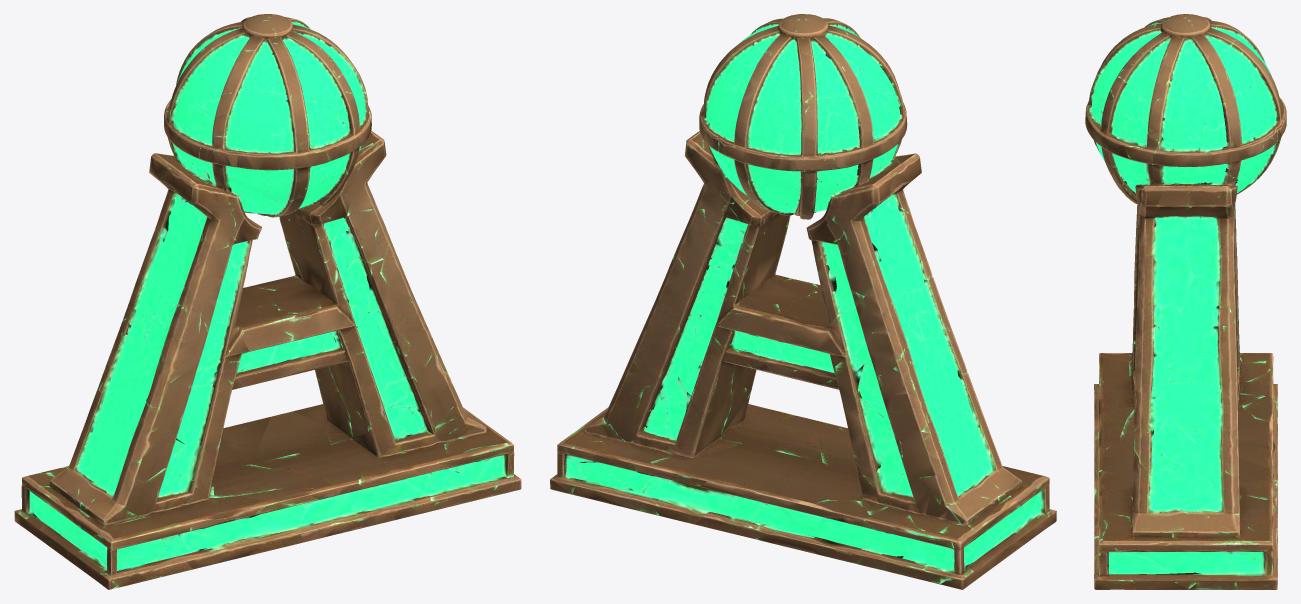
File: atlas.glb
The picture shows the model from 3 angles, left to right: view 1: azimuth 30°, elevation 25°; view 2: azimuth 150°, elevation 25°; view 3: azimuth 270°, elevation 25°; orthographic projection. The views are drawn at different scales.
Parts seen in each view (by area): view 1: Mesh_0; view 2: Mesh_0; view 3: Mesh_0.
Boxes of the visible parts, x1,y1,x2,y2 form: Mesh_0: [14, 14, 521, 589]; Mesh_0: [550, 14, 1056, 589]; Mesh_0: [1085, 14, 1286, 589].
Bounding box in the file's own units: 1.69 × 1.9 × 0.7329.
1 material, 1 textured.
